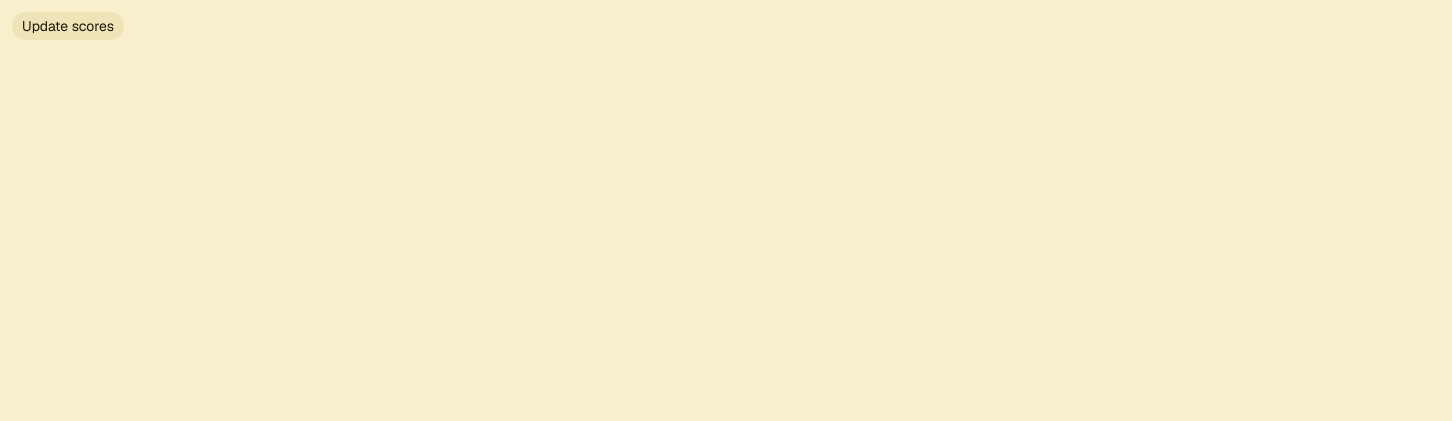
Scenario: InlineRatingEditor (R51) › opens the sliders, already set to the current scores
Step 1. Click the button "Update scores" → point(68, 26), box [12,12,124,40]
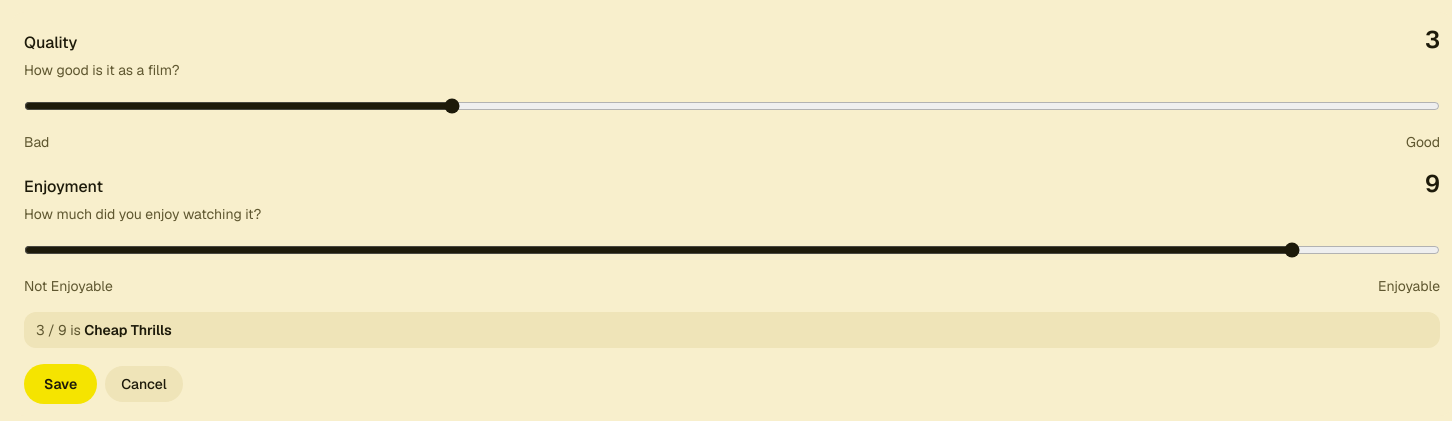
Check: the slider labelled "Quality" holds "3", box [24,84,1440,128]
Check: the slider labelled "Enjoyment" holds "9", box [24,228,1440,272]
Check: the element with test id "placement-preview" shows "Cheap Thrills", box [84,321,172,339]
